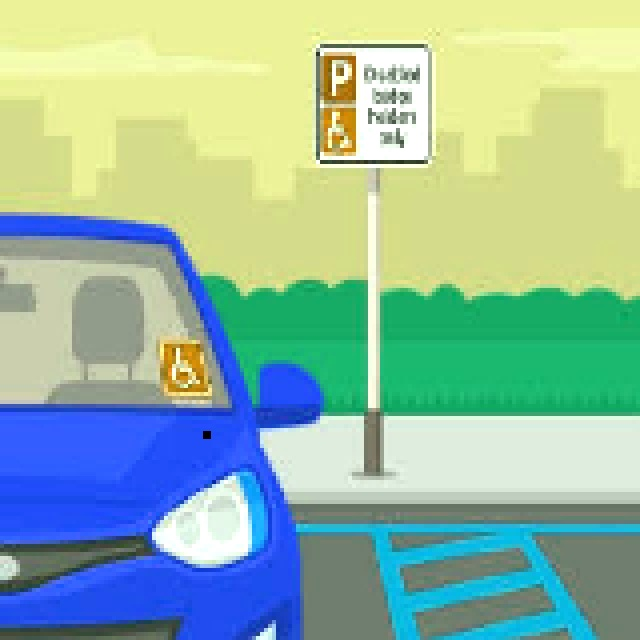ISA: (162, 342, 205, 396), (322, 104, 354, 154)
